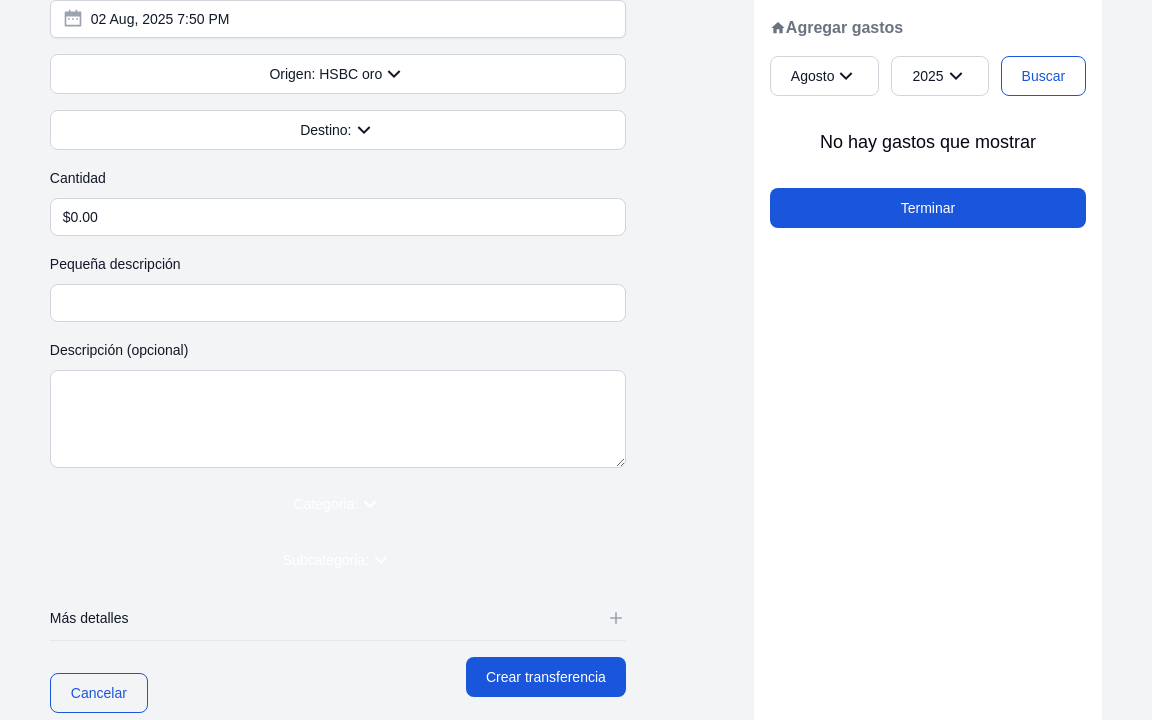
it: TransferTemplate › Form Validations › Given a user filling the short description and then clicking create a transfer, show validation error for category to be required
Type "Test expense" into the field labelled "Pequeña descripción" at (338,303), box top-left (50, 284), bottom-right (626, 322)
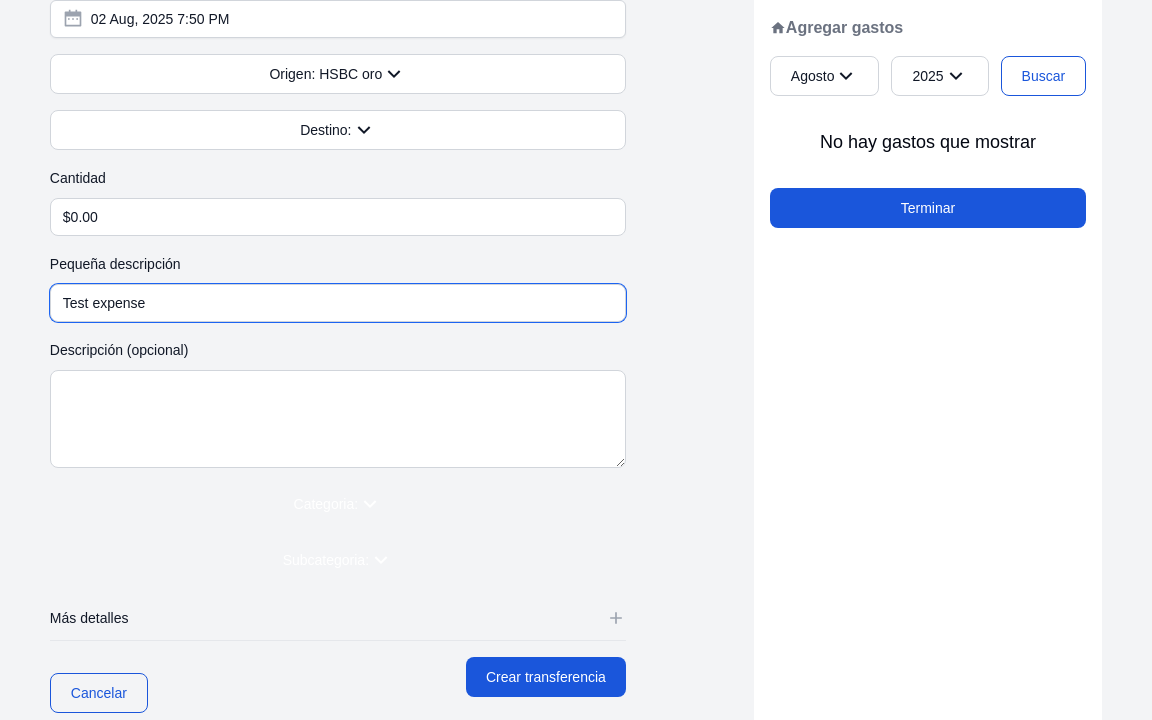
Click the button "Crear transferencia" at (546,677), box top-left (466, 657), bottom-right (626, 697)
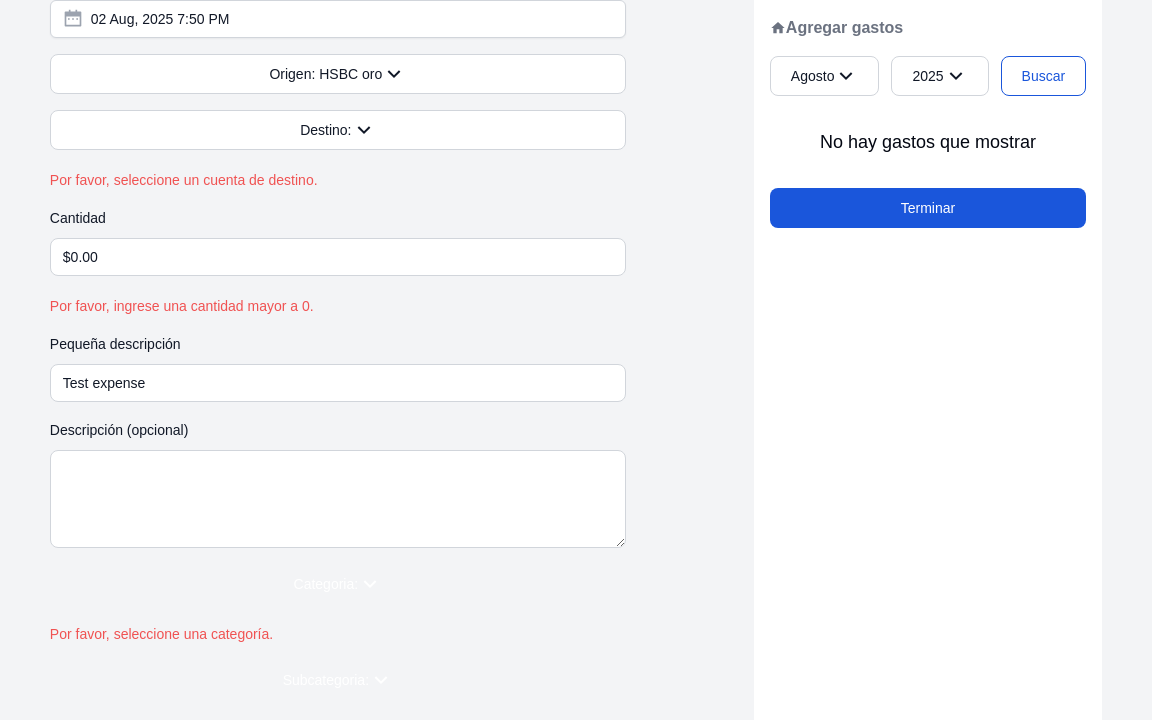
Result: the text "Por favor, seleccione una categoría." is shown at top-left (50, 626), bottom-right (273, 642)
